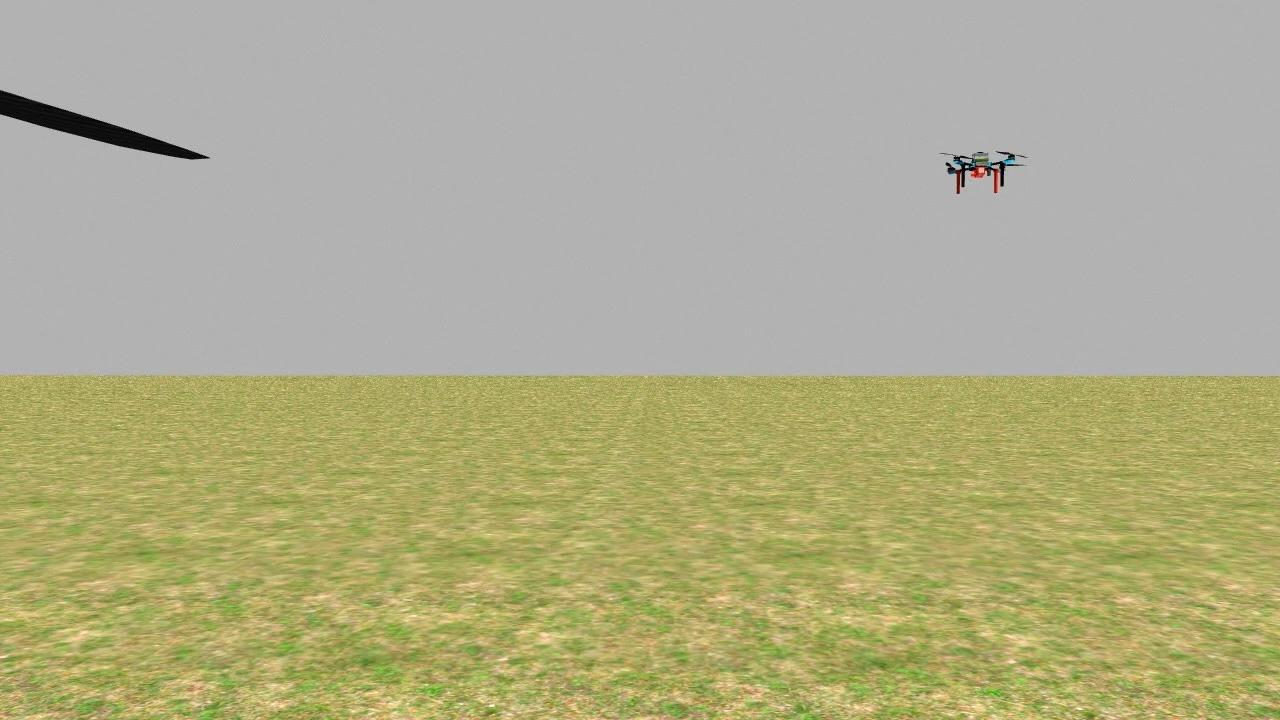UAV: (934, 132, 1034, 210)
